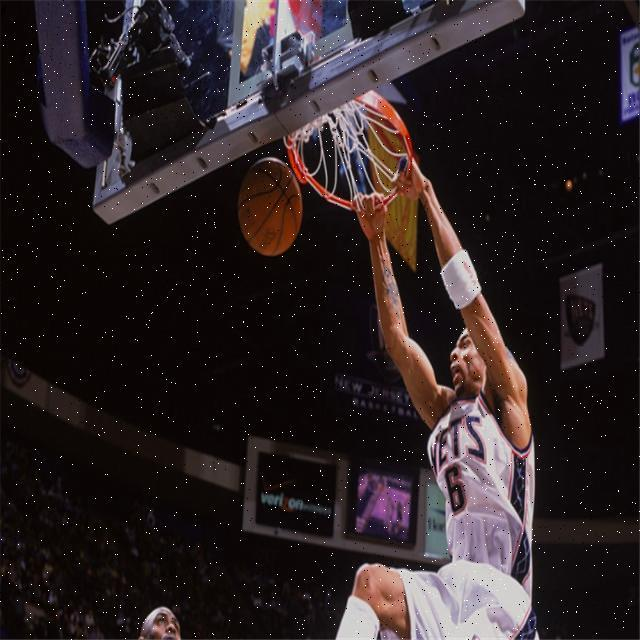ball: (237, 156, 303, 259)
hoop: (306, 92, 415, 207)
